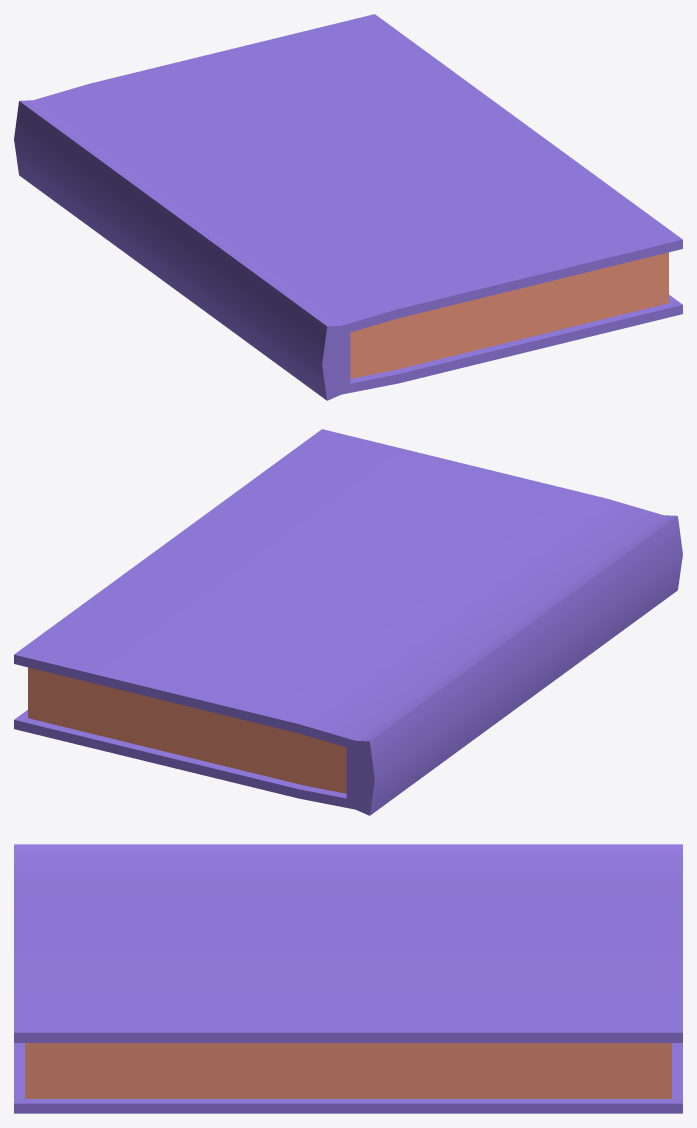
The model's file is Book.fbx.
3 views of the same model, one above another, from view 1: azimuth 30°, elevation 25°; view 2: azimuth 150°, elevation 25°; view 3: azimuth 270°, elevation 25° (orthographic). The views are drawn at different scales.
Parts seen in each view (by area): view 1: Book; view 2: Book; view 3: Book.
Boxes of the visible parts, <box> form: Book: <box>14,14,682,400</box>; Book: <box>14,429,682,815</box>; Book: <box>14,844,682,1113</box>.
Bounding box in the file's own units: 20.29 × 4 × 30.
